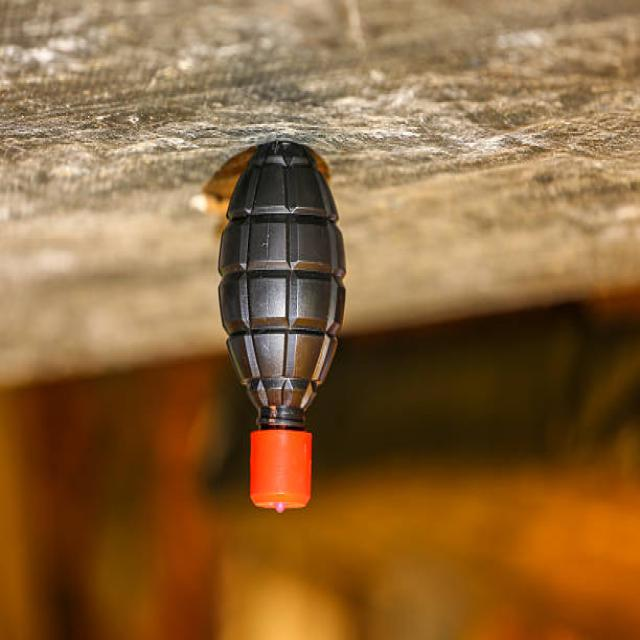grenade: (219, 139, 357, 521)
